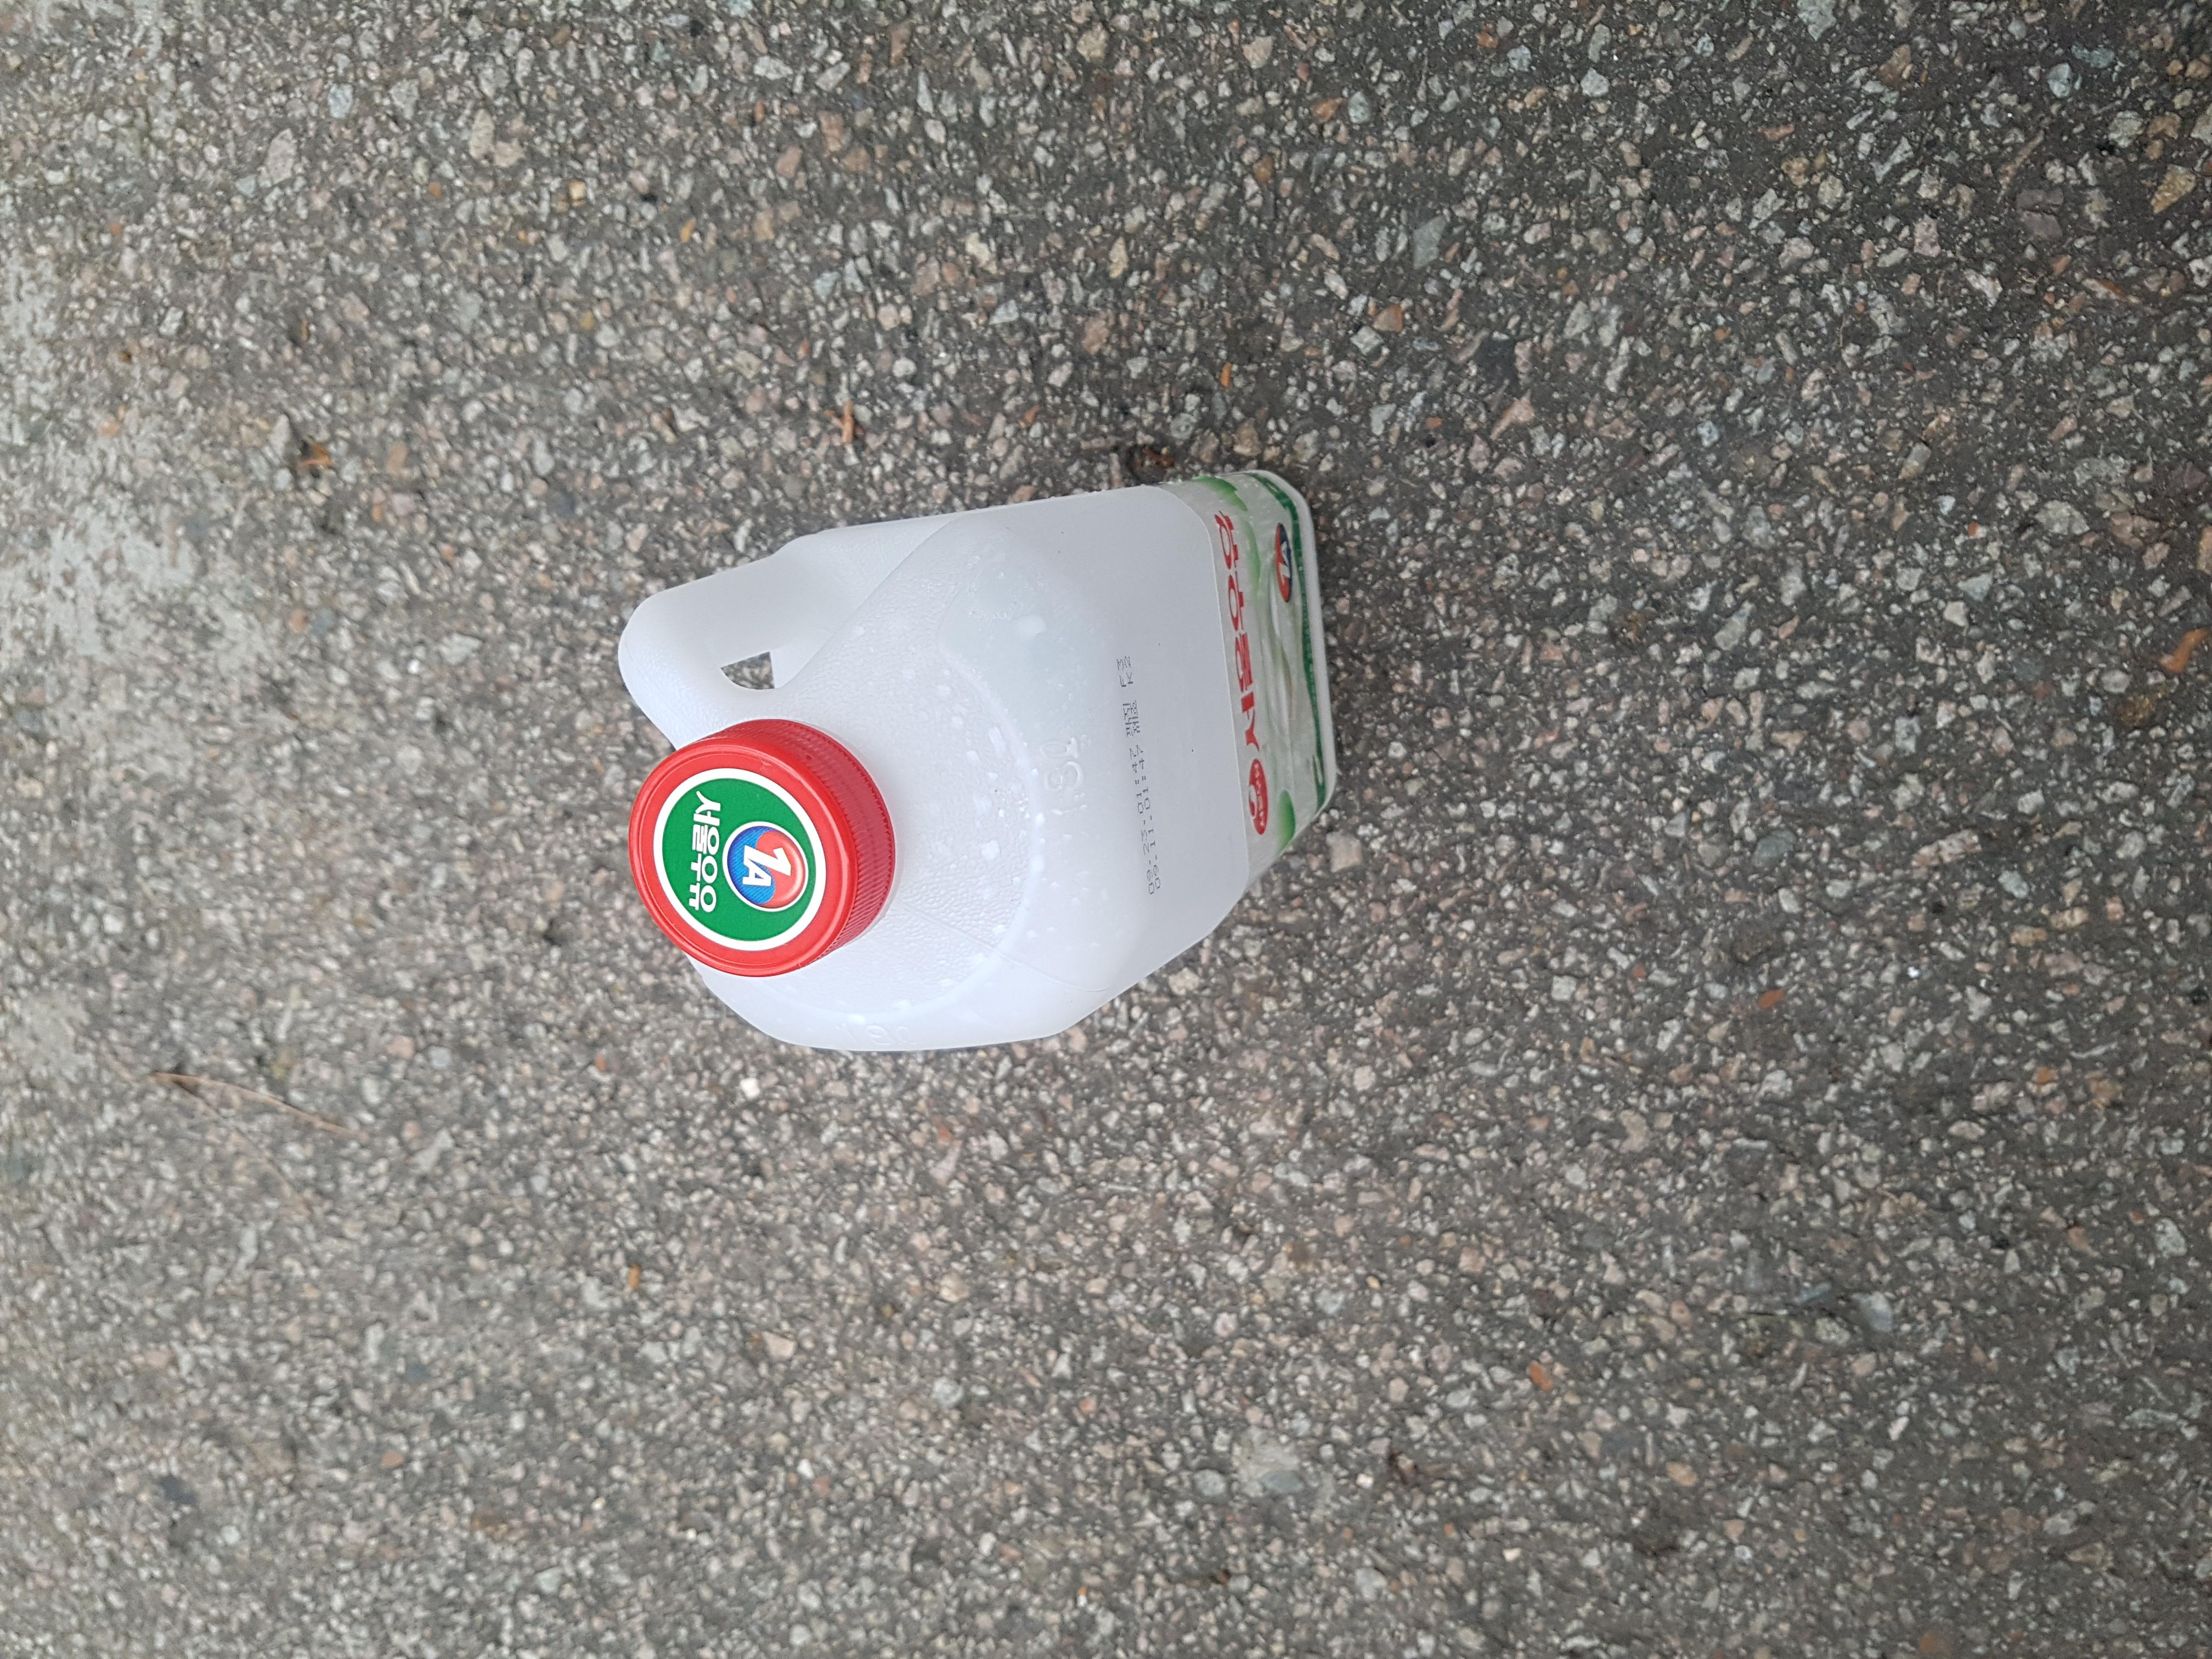bottle: (671, 471, 1683, 1080)
